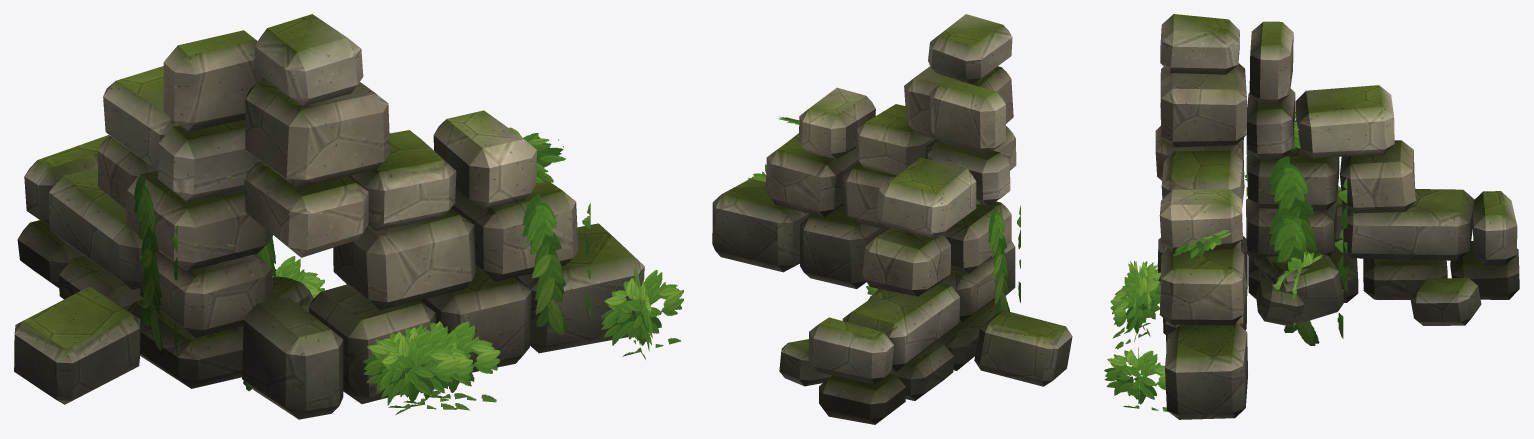
The model's file is ruin_wall_b.glb.
The picture shows the model from 3 angles, left to right: view 1: azimuth 30°, elevation 25°; view 2: azimuth 150°, elevation 25°; view 3: azimuth 270°, elevation 25°; orthographic projection. The views are drawn at different scales.
Parts seen in each view (by area): view 1: ruin_wall_b; view 2: ruin_wall_b; view 3: ruin_wall_b.
Part boxes in pixels (<box>): ruin_wall_b: <box>14,14,683,419</box>; ruin_wall_b: <box>712,14,1072,424</box>; ruin_wall_b: <box>1104,14,1519,419</box>.
Size of the model in its own units: 2.78 by 2.04 by 2.43.
2 materials, 2 textured.
